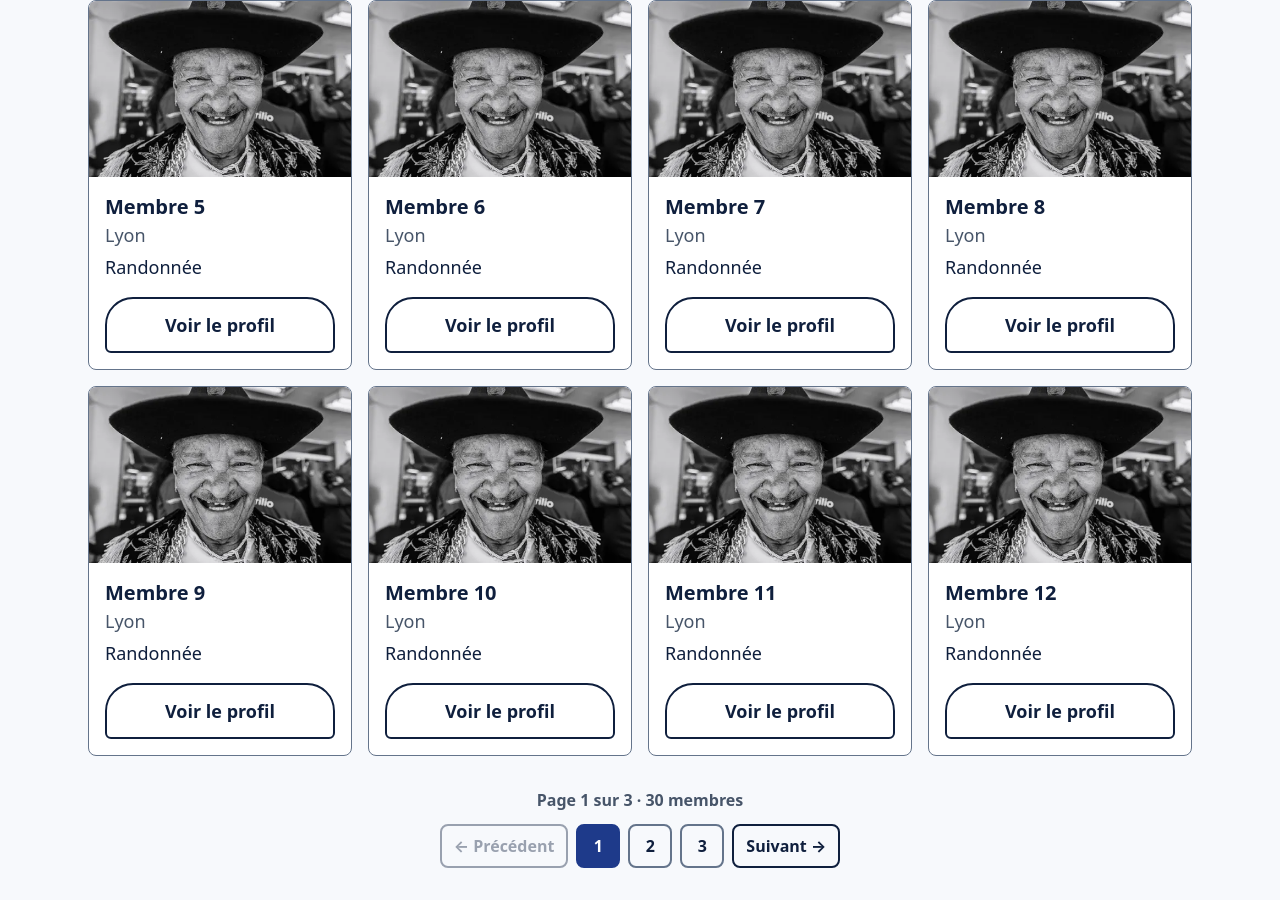
Test: MembersView › pagine par 12 : numéros de page, précédent et suivant
(page scrolled)
Check: the button "1" is shown, box [576,824,620,868]
Click the button named "Page 3" at {"x": 702, "y": 846}, box [680,824,724,868]
(page scrolled)
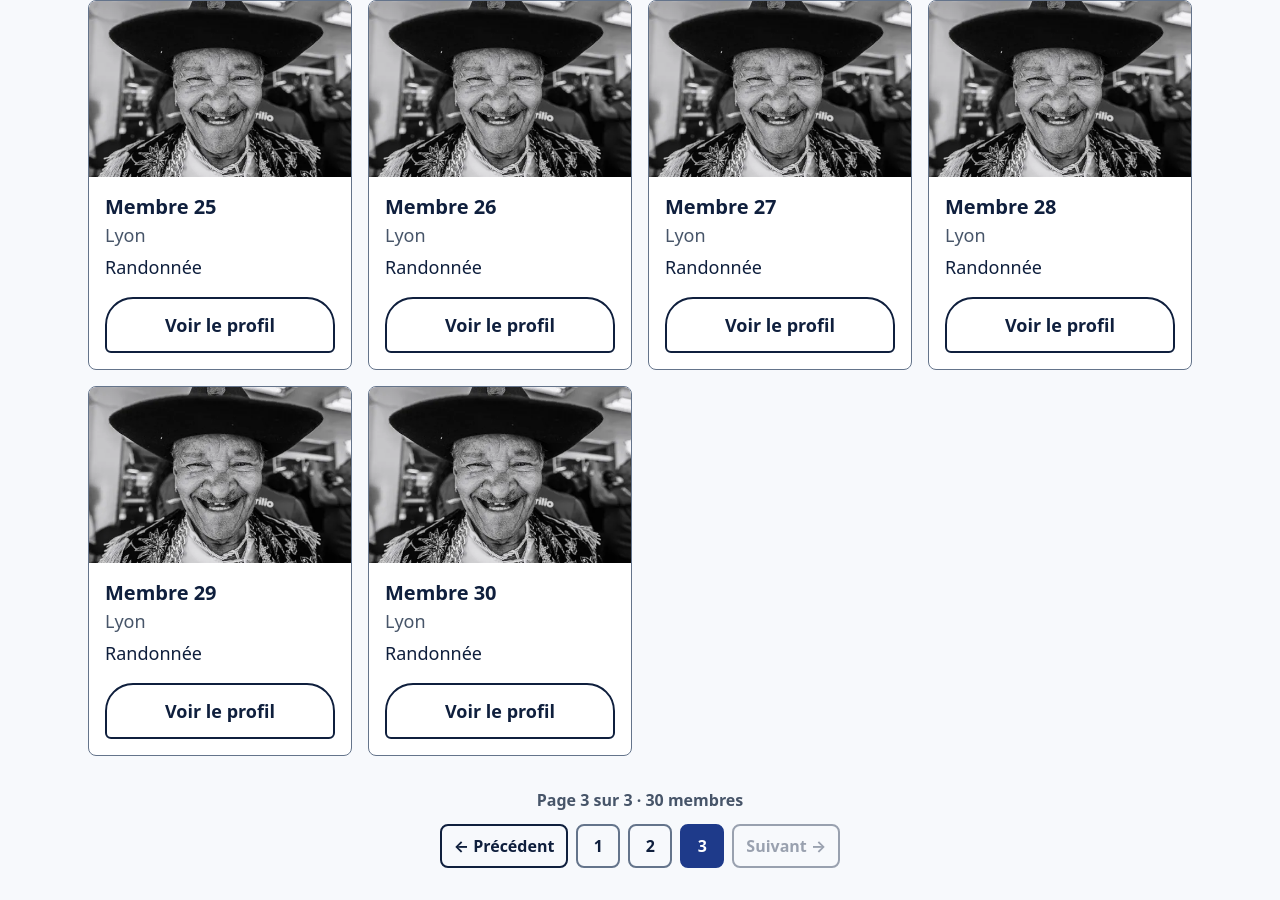
Check: the text "Membre 25" is shown, box [105,193,217,220]
Check: the text "Membre 1" is gone
Click the button "← Précédent" at {"x": 504, "y": 846}, box [440,824,568,868]
(page scrolled)
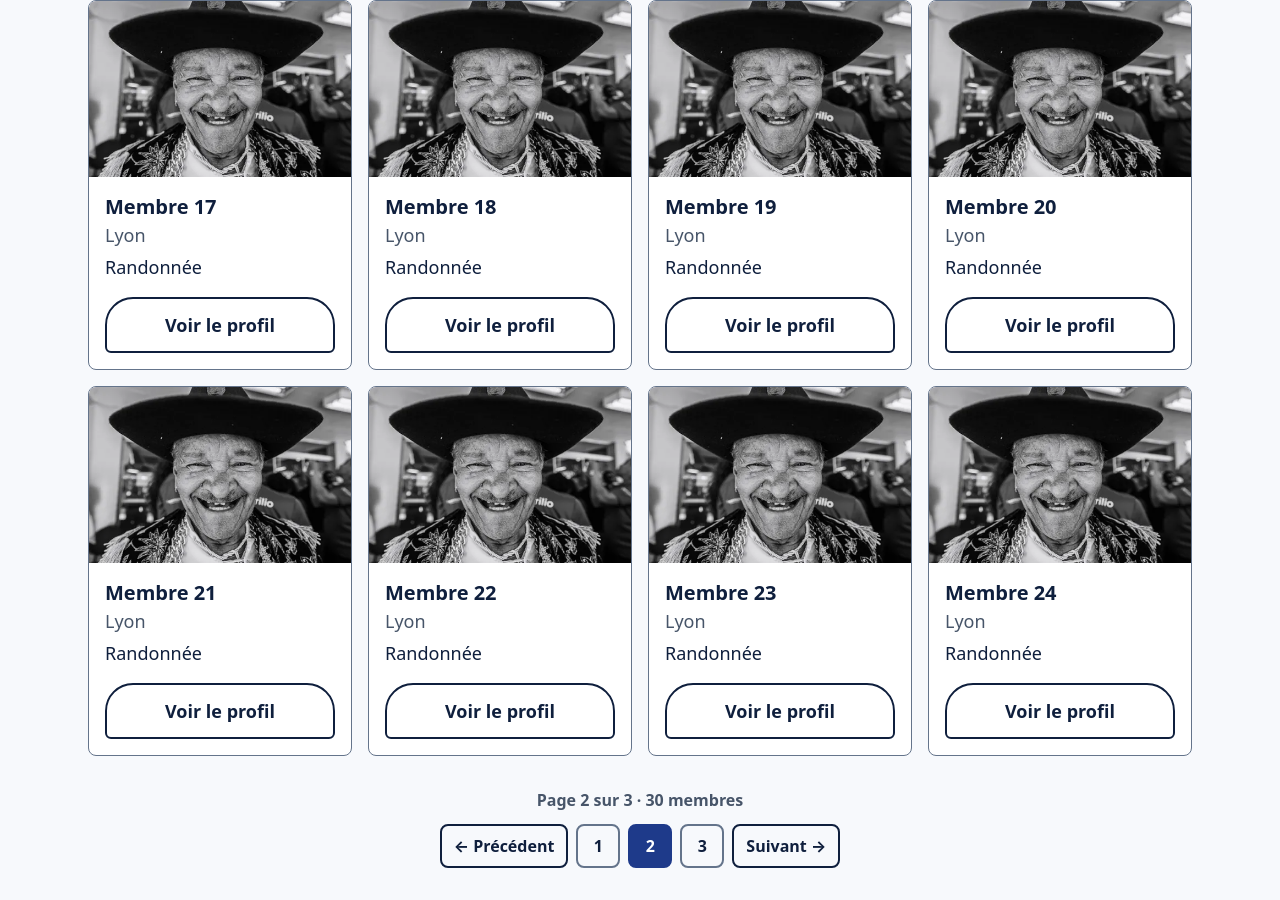
Check: the button "2" is shown, box [628,824,672,868]
Check: the button "Suivant →" is enabled, box [732,824,840,868]
